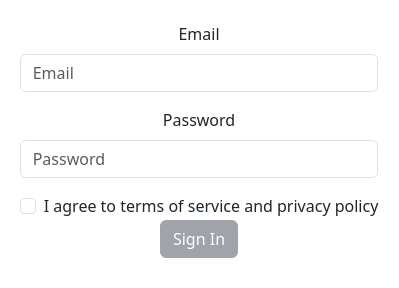
Scenario: Login Page › Email yanlış girilince doğru hata mesajı dönüyor
In the field named "email": (200, 73) [20, 54, 379, 92], type "abc"
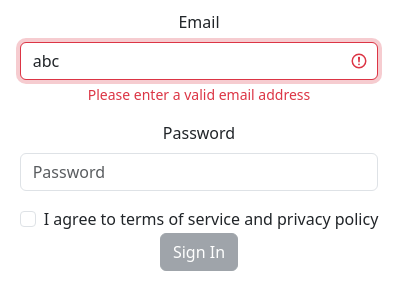
Result: the text "Please enter a valid email address" is shown at [88, 84, 310, 104]
Result: the number of elements with class "errorMsg" is 1 at [88, 85, 311, 104]
